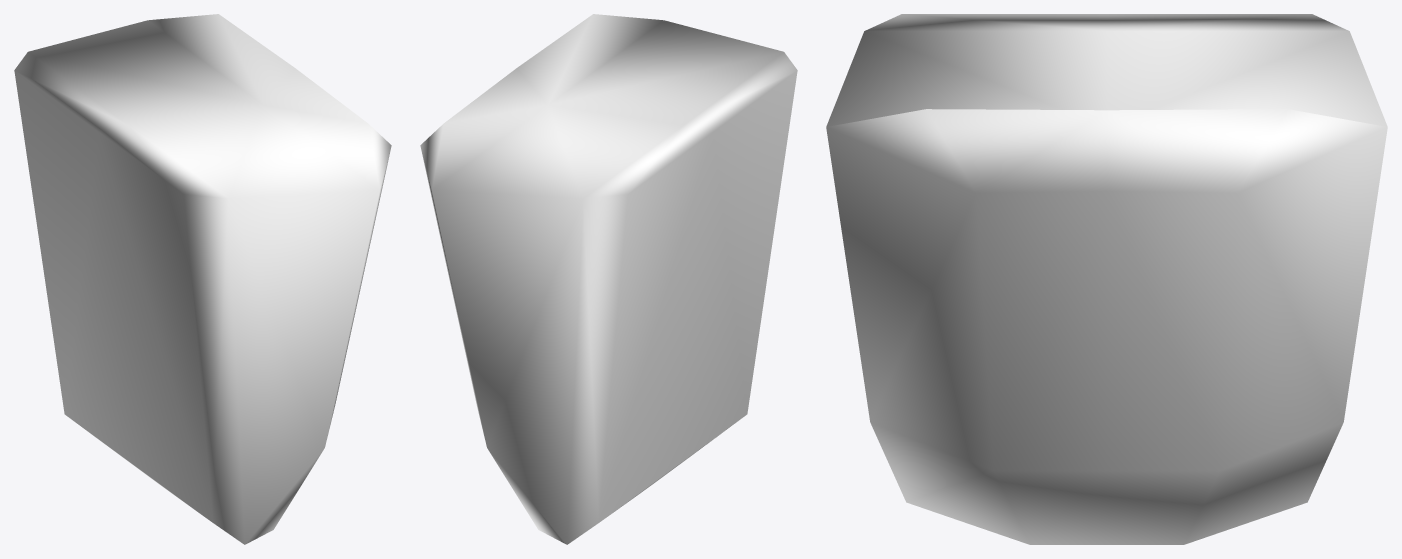
Rendered from pinkyj3_right.obj.
The picture shows the model from 3 angles, left to right: view 1: azimuth 30°, elevation 25°; view 2: azimuth 150°, elevation 25°; view 3: azimuth 270°, elevation 25°; orthographic projection. The views are drawn at different scales.
Size of the model in its own units: 0.0111 by 0.017 by 0.0187.
Materials: 1 (1 with a texture image).
